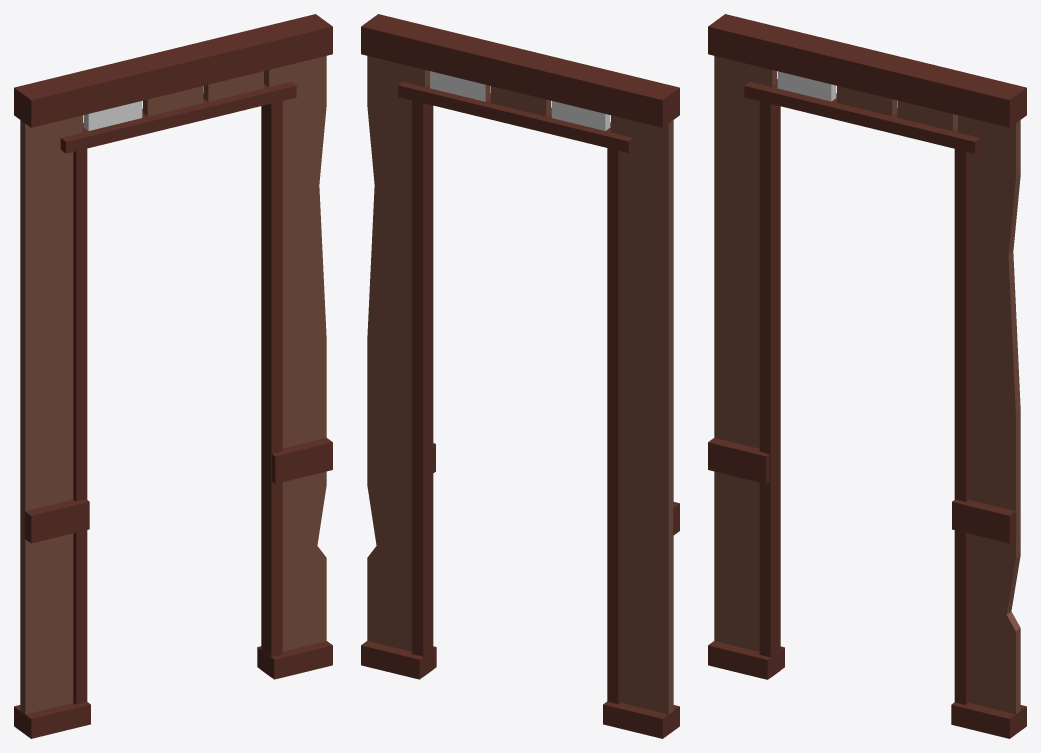
The model's file is ScrapDoor2.fbx.
3 views of the same model, side by side, from view 1: azimuth 30°, elevation 25°; view 2: azimuth 150°, elevation 25°; view 3: azimuth 330°, elevation 25° (orthographic).
Visible parts, largest first — view 1: Cube; view 2: Cube; view 3: Cube.
Part boxes in pixels (x1,y1,x2,y2): Cube: (14, 14, 332, 738); Cube: (361, 14, 679, 738); Cube: (708, 14, 1026, 738).
Bounding box in the file's own units: 200 × 405 × 19.8.
